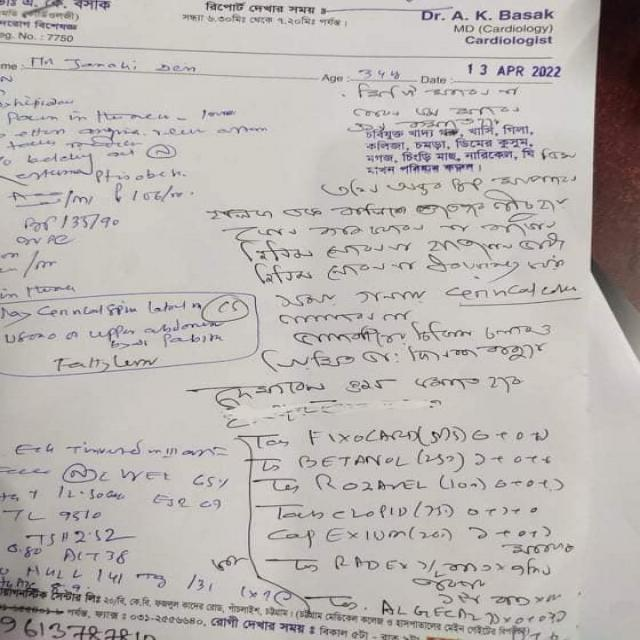Algecal D: (366, 593, 507, 628)
Betanol: (297, 451, 416, 474)
Clopid: (324, 502, 414, 525)
Exium: (322, 522, 412, 550)
Fixocard: (302, 422, 418, 451)
Radex: (330, 554, 416, 580)
Rozavel: (317, 474, 436, 499)
